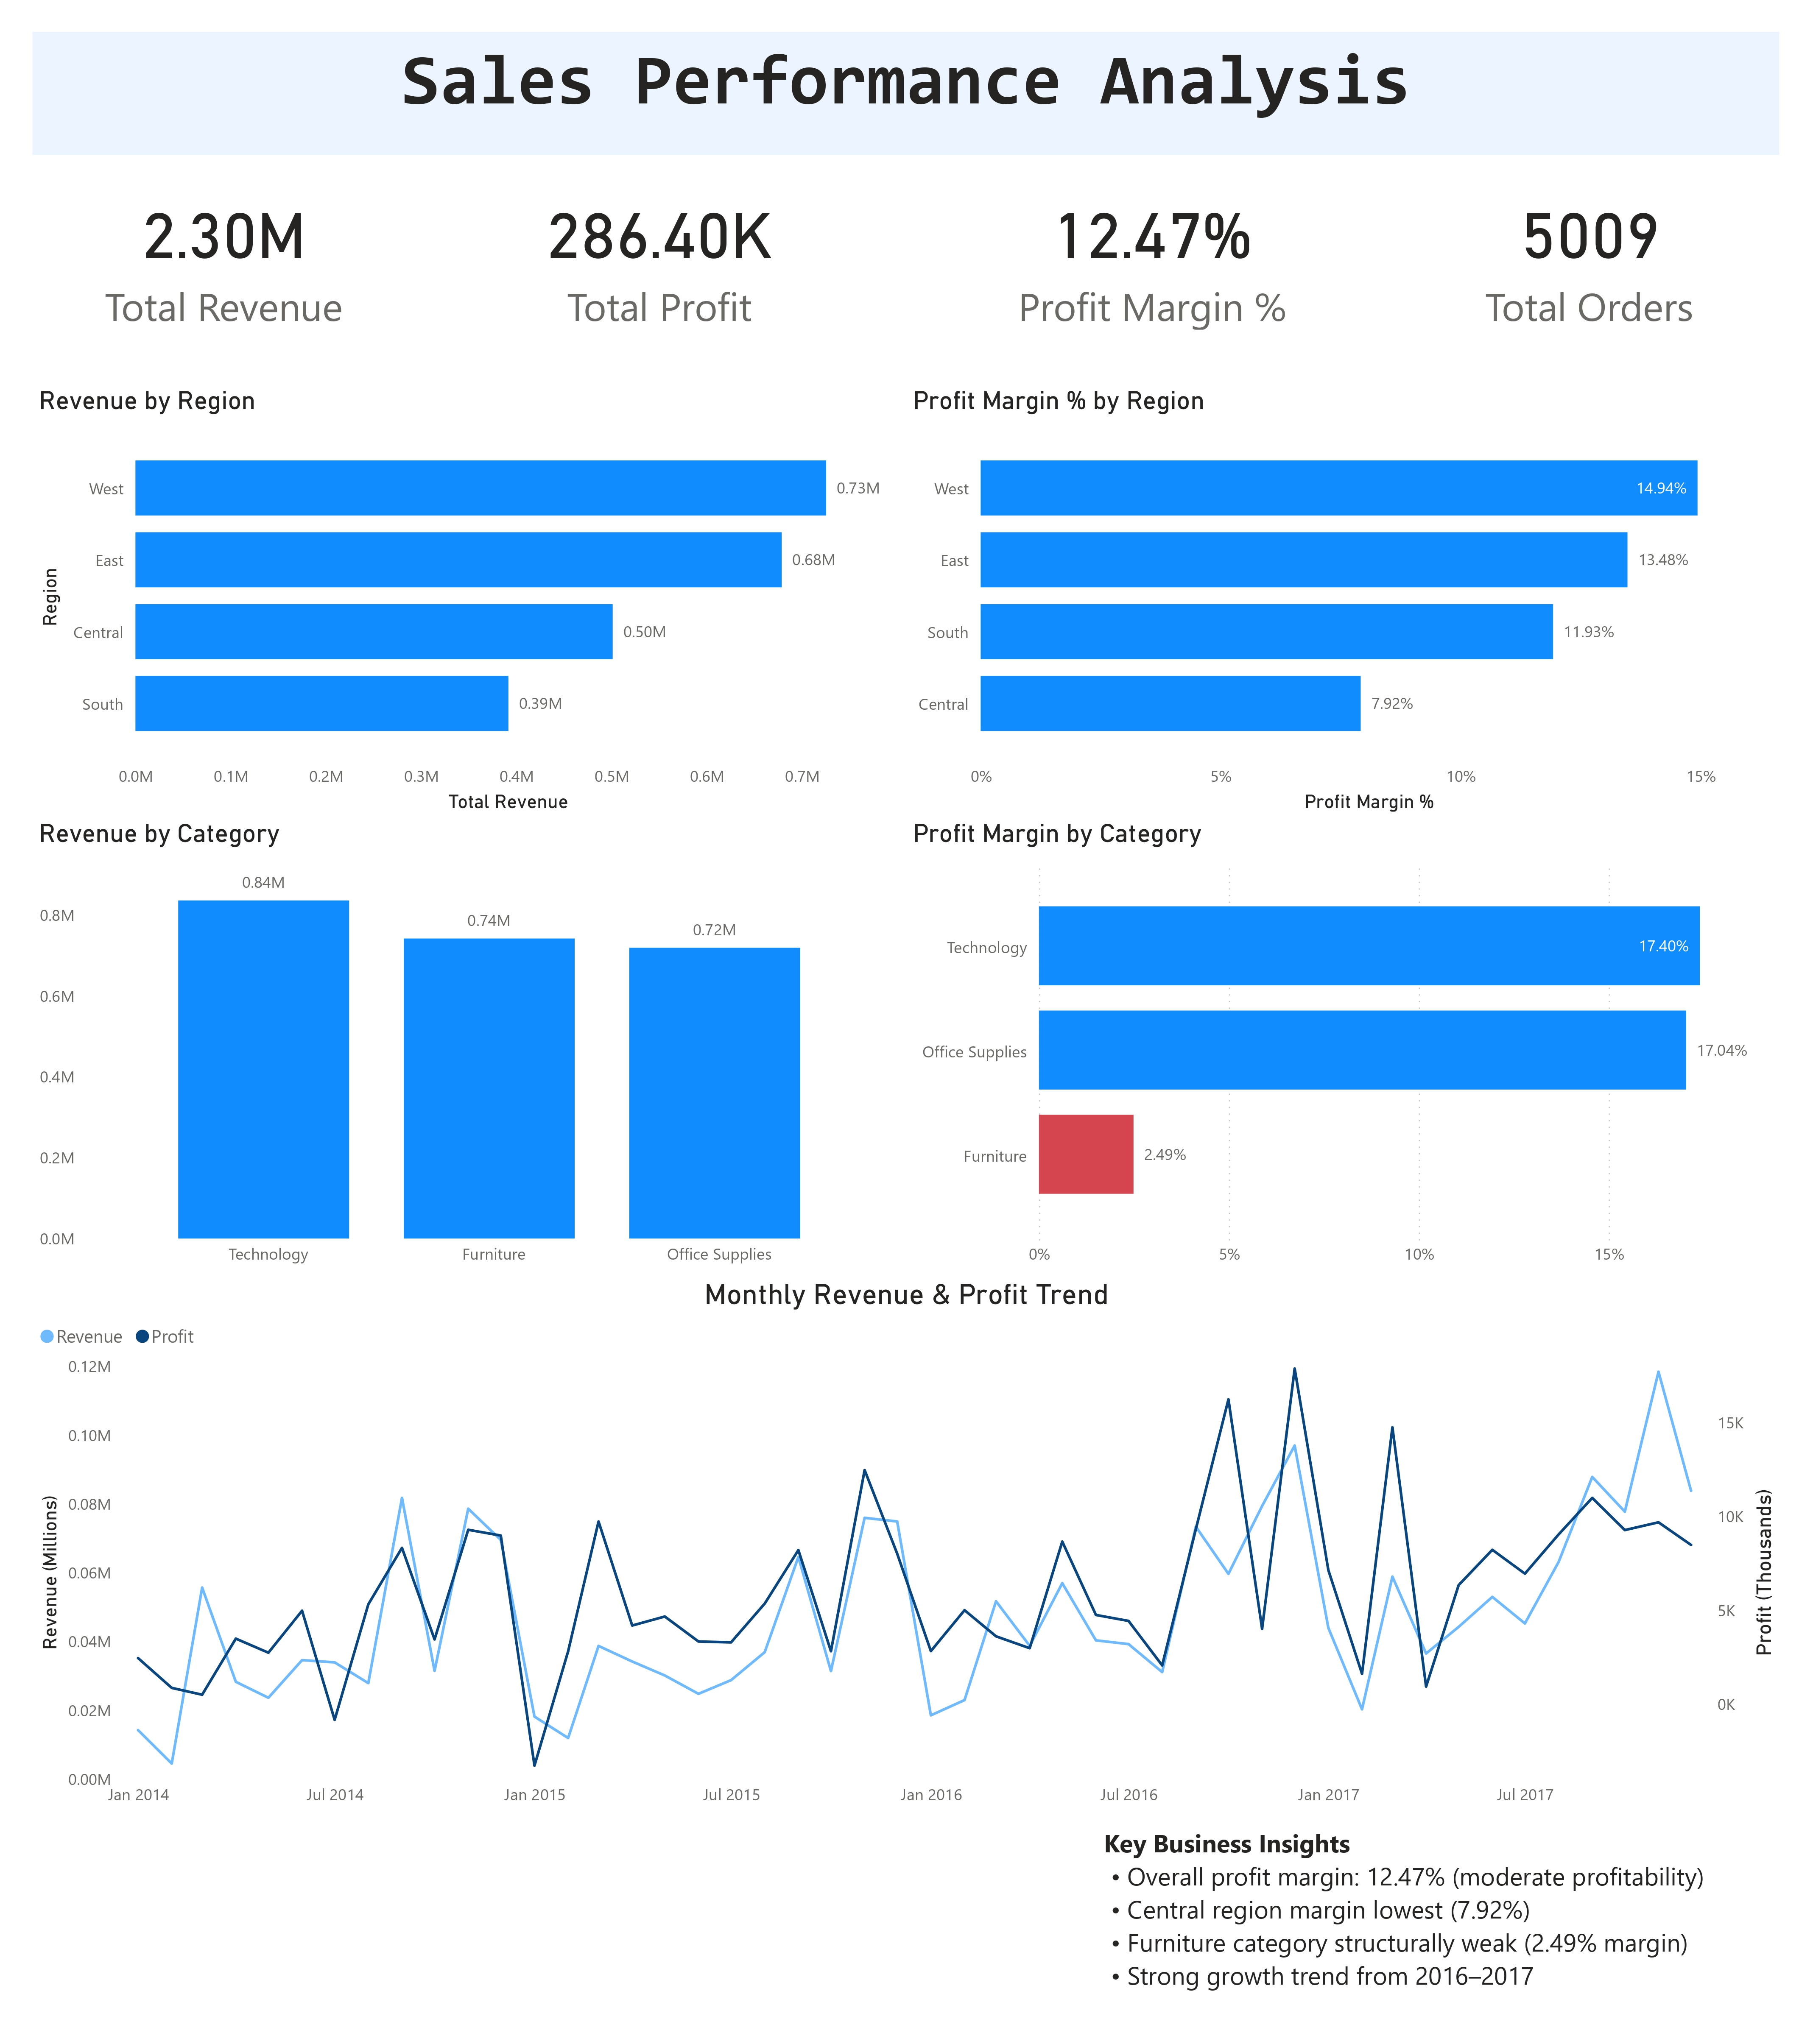

The page's visual inventory and layout, read from the dashboard file:
{"tool":"powerbi","page":{"name":"Page 1","canvas":[1320,1495],"ordinal":0},"visuals":[{"type":"textbox","box":[0,0,1318.6,93.3],"z":0},{"type":"card","fields":{"Values":["Sum(public vw_kpi_summary.total_revenue)"]},"box":[0,105.7,288.6,124],"z":1000},{"type":"card","fields":{"Values":["Sum(public vw_kpi_summary.total_profit)"]},"box":[330,105.7,287.1,124],"z":2000},{"type":"card","fields":{"Values":["Sum(public vw_kpi_summary.total_orders)"]},"box":[1031.4,105.7,288.6,124],"z":3000},{"type":"card","fields":{"Values":["Sum(public vw_kpi_summary.profit_margin_percentage)"]},"box":[701.1,105.6,288.9,124],"z":4000},{"type":"clusteredBarChart","title":"Revenue by Region","fields":{"Category":["public vw_regional_performance.region"],"Y":["Sum(public vw_regional_performance.total_revenue)"]},"box":[0,267.1,660,327.1],"z":5000},{"type":"clusteredBarChart","fields":{"Category":["public vw_regional_performance.region"],"Y":["Sum(public vw_regional_performance.profit_margin_percentage)"]},"box":[660,267.1,660,327.1],"z":6000},{"type":"clusteredColumnChart","title":"Revenue by Category","fields":{"Category":["public vw_category_performance.category"],"Y":["Sum(public vw_category_performance.total_revenue)"]},"box":[0,594.3,660,347.1],"z":7000},{"type":"clusteredBarChart","title":"Profit Margin by Category","fields":{"Category":["public vw_category_performance.category"],"Y":["Sum(public vw_category_performance.profit_margin_percentage)"]},"box":[660,594.3,660,347.1],"z":8000},{"type":"lineChart","title":"Monthly Revenue & Profit Trend","fields":{"Y":["Sum(public vw_monthly_trend.total_revenue)"],"Category":["public vw_monthly_trend.month.Variation.Date Hierarchy.Year","public vw_monthly_trend.month.Variation.Date Hierarchy.Month"],"Y2":["Sum(public vw_monthly_trend.total_profit)"]},"box":[0,941.4,1320,408.6],"z":9000},{"type":"textbox","box":[804.3,1350,514.3,145.7],"z":9001}]}

Visuals, with their boxes on the page's 1320x1495 design canvas (x1, y1, x2, y2). These are canvas units, not pixel positions in the 1813x2044 screenshot, which may show the page scaled, cropped or inside an application window:
textbox: bbox=[0, 0, 1319, 93]
card - Sum(public vw_kpi_summary.total_revenue): bbox=[0, 106, 289, 230]
card - Sum(public vw_kpi_summary.total_profit): bbox=[330, 106, 617, 230]
card - Sum(public vw_kpi_summary.total_orders): bbox=[1031, 106, 1320, 230]
card - Sum(public vw_kpi_summary.profit_margin_percentage): bbox=[701, 106, 990, 230]
"Revenue by Region" clusteredBarChart: bbox=[0, 267, 660, 594]
clusteredBarChart - public vw_regional_performance.region x Sum(public vw_regional_performance.profit_margin_percentage): bbox=[660, 267, 1320, 594]
"Revenue by Category" clusteredColumnChart: bbox=[0, 594, 660, 941]
"Profit Margin by Category" clusteredBarChart: bbox=[660, 594, 1320, 941]
"Monthly Revenue & Profit Trend" lineChart: bbox=[0, 941, 1320, 1350]
textbox: bbox=[804, 1350, 1319, 1496]
